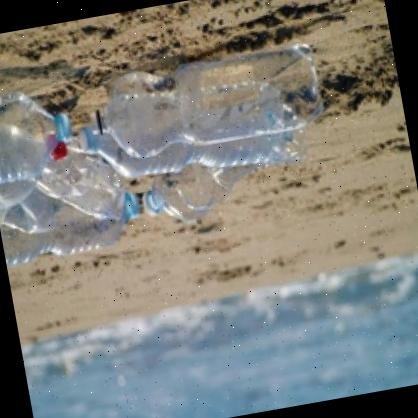bottle: (0, 22, 343, 268), (328, 214, 332, 216)
cap: (49, 140, 70, 162)
